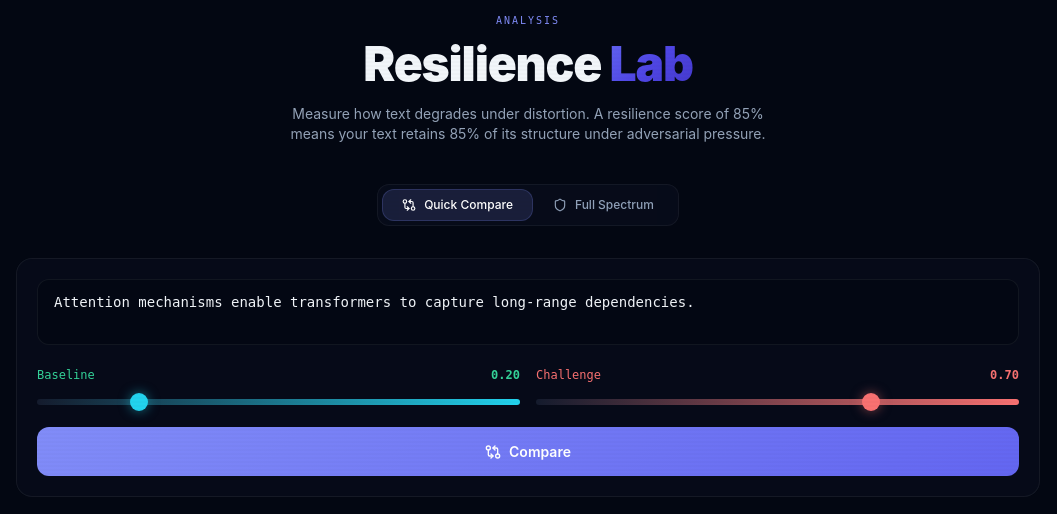
ResilienceLab Component › updates baseline and challenge strength sliders
This screenshot has width=1057, height=514.
Set the slider named "Baseline distortion strength" to "0.35" at {"x": 208, "y": 402}, box x1=37 y1=399 x2=520 y2=405
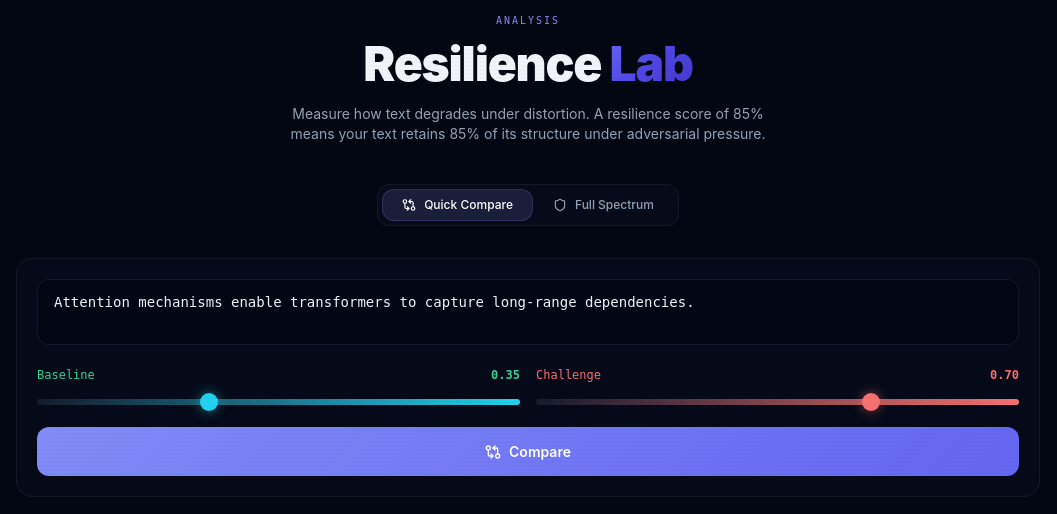
Now the text "0.35" is shown, box x1=491 y1=367 x2=520 y2=383
Set the slider named "Challenge distortion strength" to "0.85" at {"x": 941, "y": 402}, box x1=536 y1=399 x2=1019 y2=405
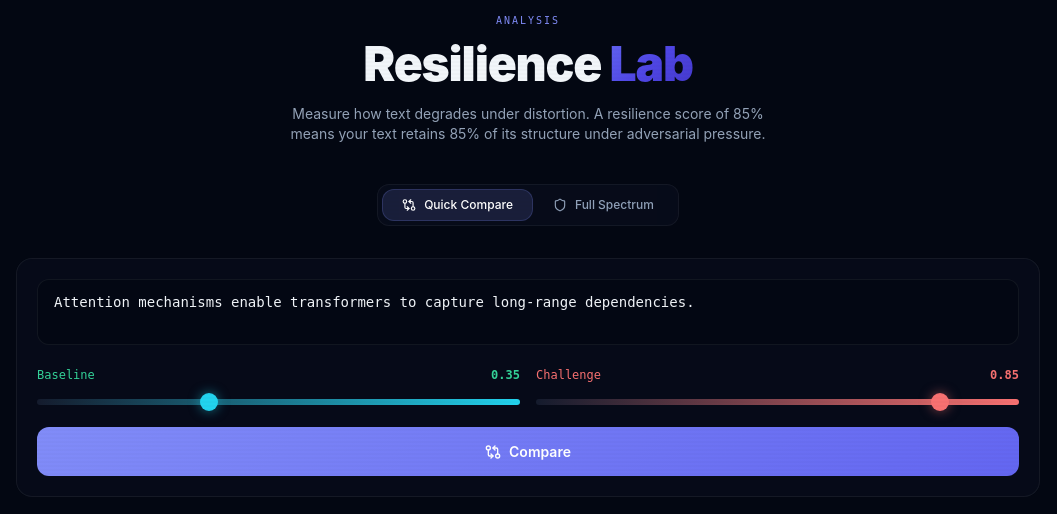
Now the text "0.85" is shown, box x1=990 y1=367 x2=1019 y2=383
